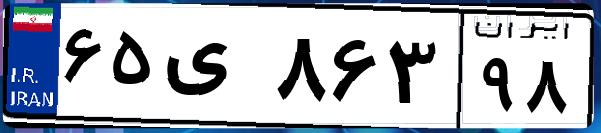3: (385, 28, 445, 110)
5: (110, 28, 158, 98)
6: (330, 28, 385, 110), (57, 26, 110, 100)
8: (270, 28, 330, 110), (525, 38, 570, 115)
9: (475, 38, 525, 113)
ی: (158, 20, 270, 120)
